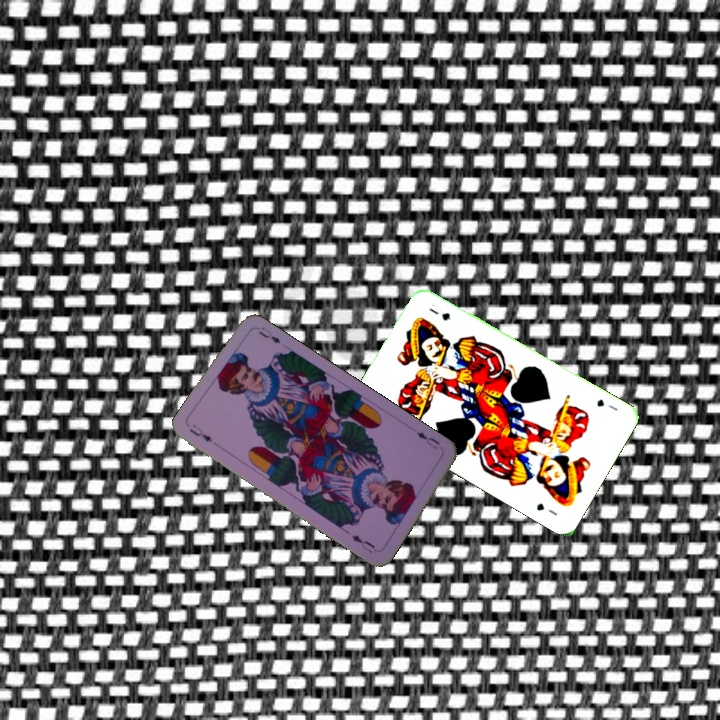EU: (185, 421, 215, 445), (413, 428, 442, 452)
GU: (593, 395, 620, 413)
